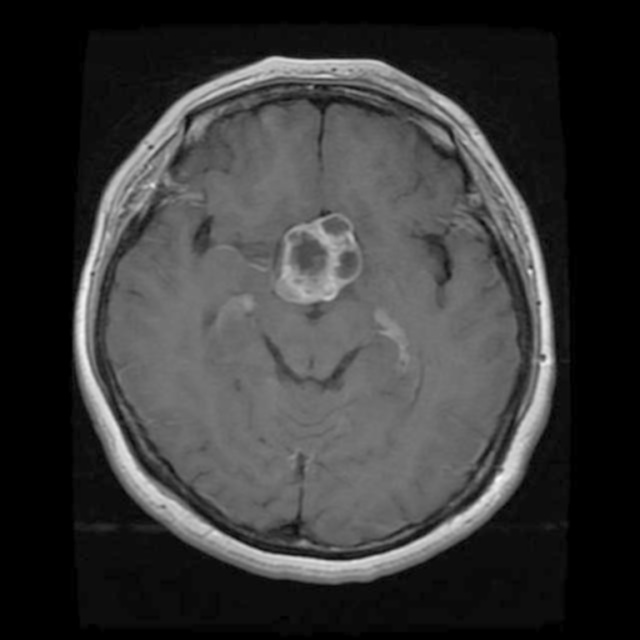no tumor: (266, 208, 368, 308)
